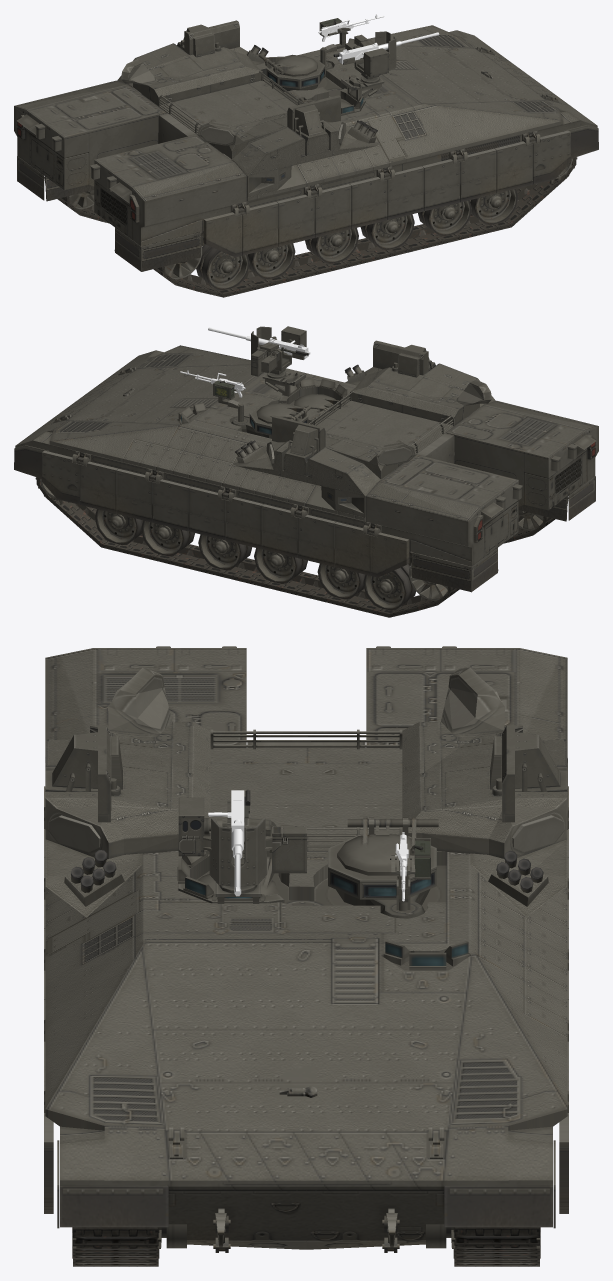
Rendered from namer_apc.fbx.
The picture shows the model from 3 angles, top to bottom: view 1: azimuth 30°, elevation 25°; view 2: azimuth 150°, elevation 25°; view 3: azimuth 270°, elevation 25°; orthographic projection. The views are drawn at different scales.
Parts seen in each view (by area): view 1: hull, trophy, track2, mudguard, era15, era11, era18, era13, era12, era16, era19, wheel15 (+21 smaller); view 2: hull, trophy, track, mudguard, era03, era07, era05, era02, era01, era08, era06, era04 (+20 smaller); view 3: hull, trophy, mudguard, mount, structure1, track2, track, hatch3, fence, shield, periscope, structure2 (+4 smaller).
Boxes of the visible parts, left/top/right/bottom form: hull: left=14, top=25, right=597, bottom=246; trophy: left=117, top=20, right=379, bottom=197; track2: left=142, top=157, right=576, bottom=297; mudguard: left=17, top=125, right=598, bottom=271; era15: left=276, top=194, right=314, bottom=246; era11: left=494, top=141, right=532, bottom=193; era18: left=349, top=177, right=387, bottom=228; era13: left=422, top=159, right=460, bottom=211; era12: left=460, top=148, right=496, bottom=202; era16: left=242, top=202, right=278, bottom=255; era19: left=315, top=184, right=351, bottom=237; wheel15: left=196, top=244, right=249, bottom=290; hull: left=15, top=345, right=598, bottom=566; trophy: left=233, top=340, right=495, bottom=517; track: left=36, top=477, right=470, bottom=617; mudguard: left=14, top=445, right=595, bottom=592; era03: left=152, top=479, right=190, bottom=531; era07: left=298, top=514, right=336, bottom=566; era05: left=225, top=497, right=263, bottom=548; era02: left=116, top=468, right=152, bottom=522; era01: left=80, top=461, right=117, bottom=513; era08: left=334, top=522, right=370, bottom=575; era06: left=261, top=504, right=297, bottom=557; era04: left=189, top=486, right=225, bottom=540; hull: left=45, top=648, right=567, bottom=1252; trophy: left=45, top=667, right=567, bottom=917; mudguard: left=57, top=1140, right=555, bottom=1228; mount: left=178, top=797, right=306, bottom=873; structure1: left=328, top=817, right=436, bottom=918; track2: left=72, top=1227, right=159, bottom=1266; track: left=453, top=1227, right=540, bottom=1266; hatch3: left=337, top=817, right=438, bottom=875; fence: left=210, top=729, right=402, bottom=847; shield: left=209, top=818, right=266, bottom=886; periscope: left=178, top=850, right=470, bottom=970; structure2: left=178, top=855, right=284, bottom=903.
Bounding box in the file's own units: 788 × 288 × 377.
